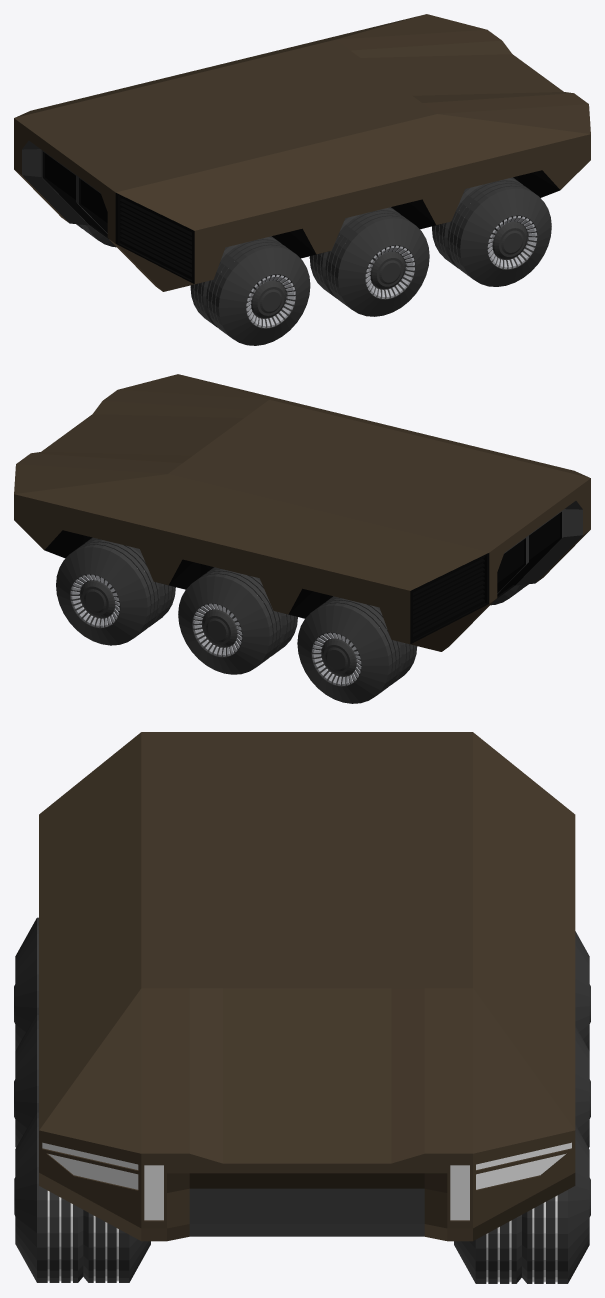
File: tank_hull.fbx
3 views of the same model, one above another, from view 1: azimuth 30°, elevation 25°; view 2: azimuth 150°, elevation 25°; view 3: azimuth 270°, elevation 25° (orthographic). The views are drawn at different scales.
Parts seen in each view (by area): view 1: Cube, Cylinder, Cylinder.005; view 2: Cube, Cylinder, Cylinder.004; view 3: Cube, Cylinder.005, Cylinder.004, Cylinder.
Boxes of the visible parts, x1=… form: Cube: x1=14, y1=14, x2=590, y2=291; Cylinder: x1=76, y1=207, x2=429, y2=345; Cylinder.005: x1=432, y1=177, x2=551, y2=286; Cube: x1=14, y1=374, x2=590, y2=651; Cylinder: x1=178, y1=567, x2=528, y2=703; Cylinder.004: x1=56, y1=537, x2=175, y2=645; Cube: x1=39, y1=732, x2=575, y2=1241; Cylinder.005: x1=14, y1=1110, x2=150, y2=1282; Cylinder.004: x1=454, y1=1125, x2=590, y2=1283; Cylinder: x1=14, y1=917, x2=590, y2=1147.
Size of the model in its own units: 202 by 64.41 by 131.
